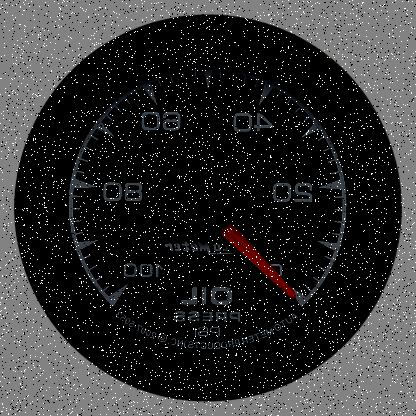needle: (217, 222, 298, 301)
